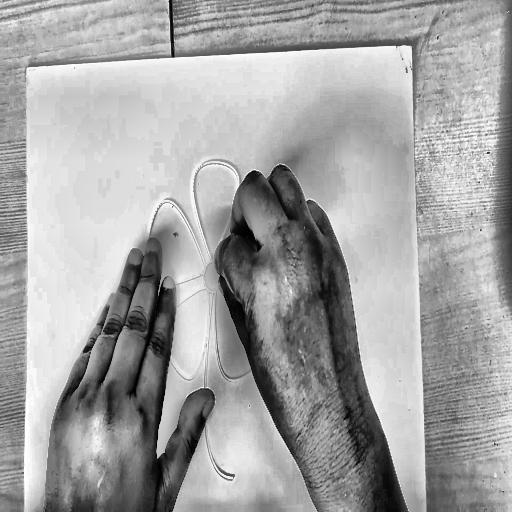flower: (138, 147, 297, 494)
top_left: (22, 61, 31, 76)
top_right: (407, 38, 416, 54)
